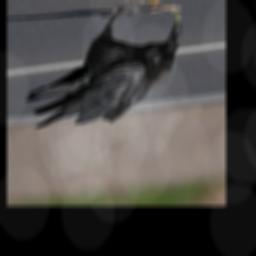Crow: (25, 7, 181, 128)
